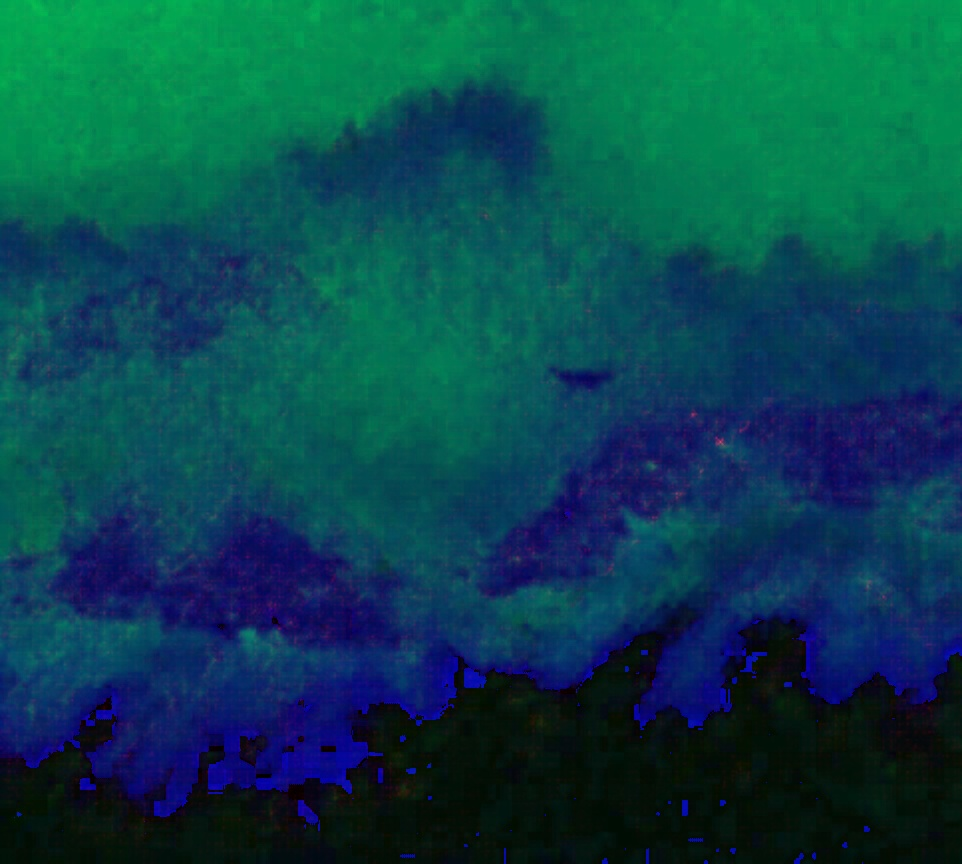rip_current: (238, 50, 612, 574)
